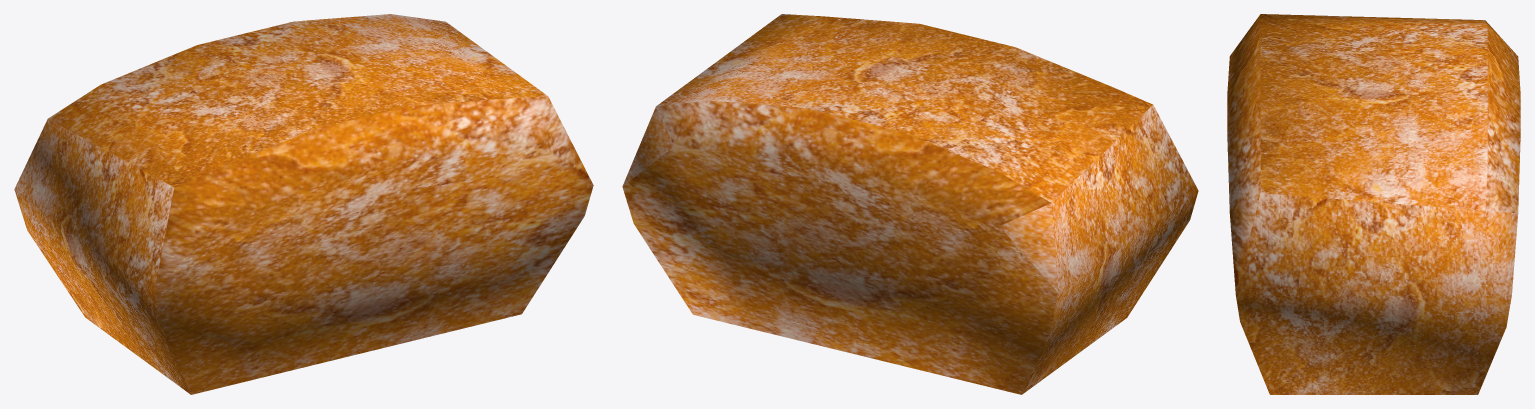
Rendered from Bread.fbx.
3 renders of one model, left to right at view 1: azimuth 30°, elevation 25°; view 2: azimuth 150°, elevation 25°; view 3: azimuth 270°, elevation 25°, orthographic.
Visible parts, largest first — view 1: Cube; view 2: Cube; view 3: Cube.
Boxes of the visible parts, x1,y1,x2,y2 form: Cube: (14, 14, 593, 394); Cube: (622, 14, 1198, 394); Cube: (1227, 14, 1520, 394).
Bounding box in the file's own units: 227 × 118 × 133.
